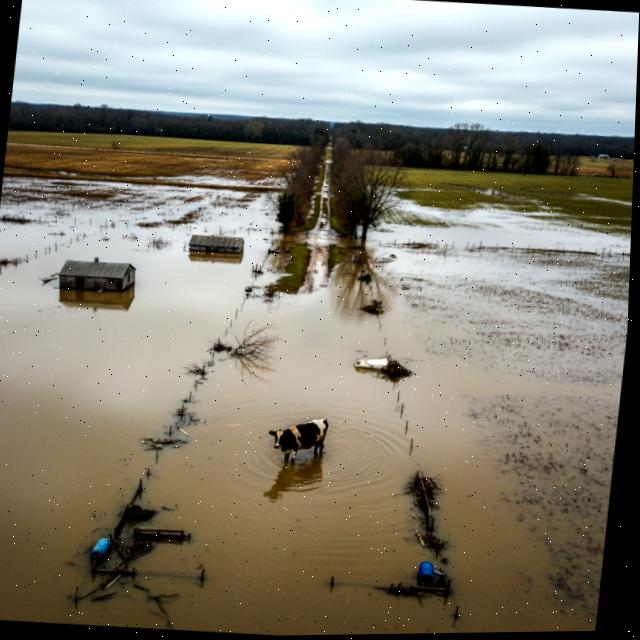cow: (253, 409, 352, 481)
